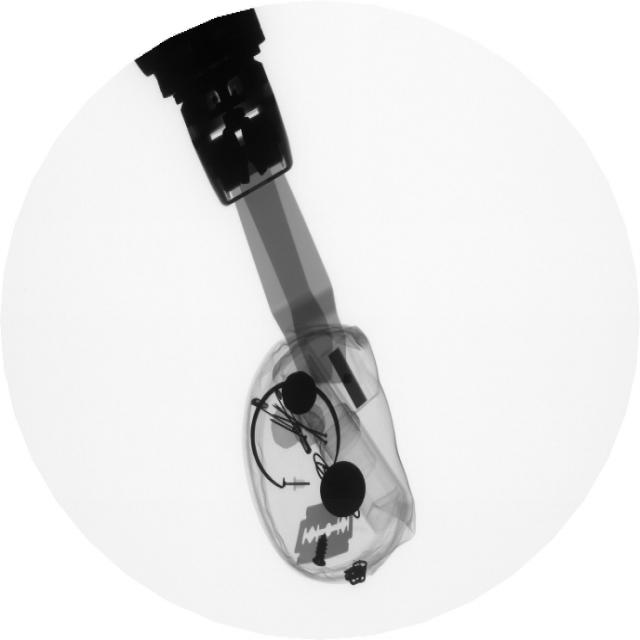BLADE: (294, 490, 359, 569)
